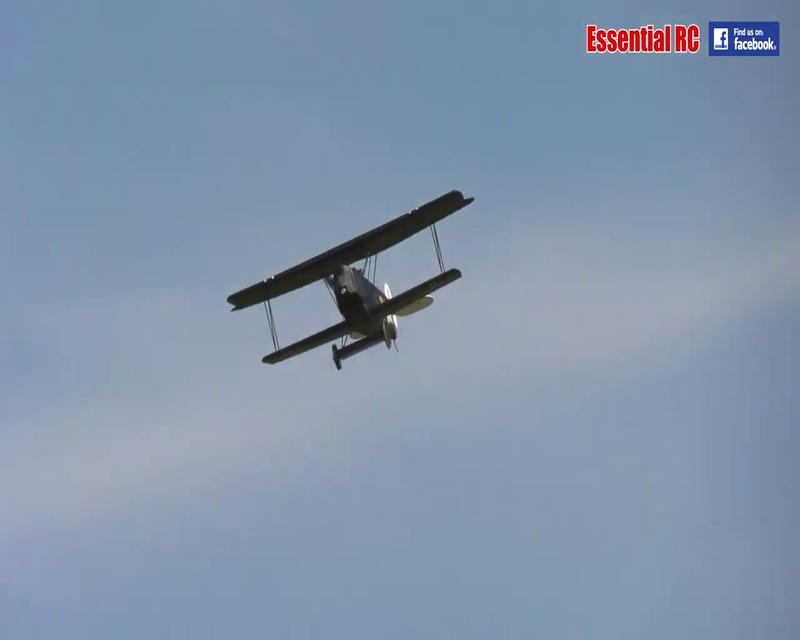UAV: (225, 190, 478, 372), (585, 22, 701, 54)
